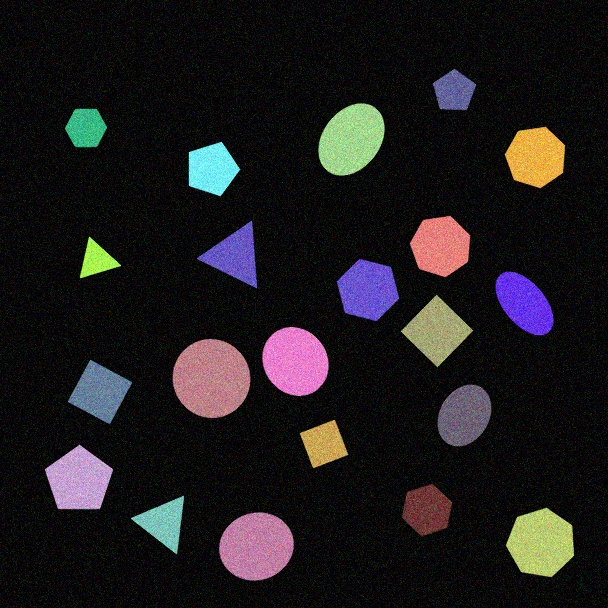Circulo: (172, 338, 251, 419), (218, 512, 295, 581), (262, 326, 329, 397)
Elipse: (318, 103, 385, 176), (495, 271, 554, 336), (437, 384, 492, 447)
Heptagono: (505, 507, 575, 578), (504, 126, 566, 189), (409, 215, 471, 278)
Hexagono: (336, 258, 400, 322), (401, 483, 453, 537), (64, 108, 108, 148)
Pentagono: (44, 444, 114, 510), (188, 141, 241, 197), (432, 68, 477, 111)
Quadrado: (400, 294, 474, 368), (67, 359, 133, 425), (299, 419, 349, 469)
Triangulo: (197, 220, 258, 289), (131, 495, 185, 555), (79, 236, 122, 279)
